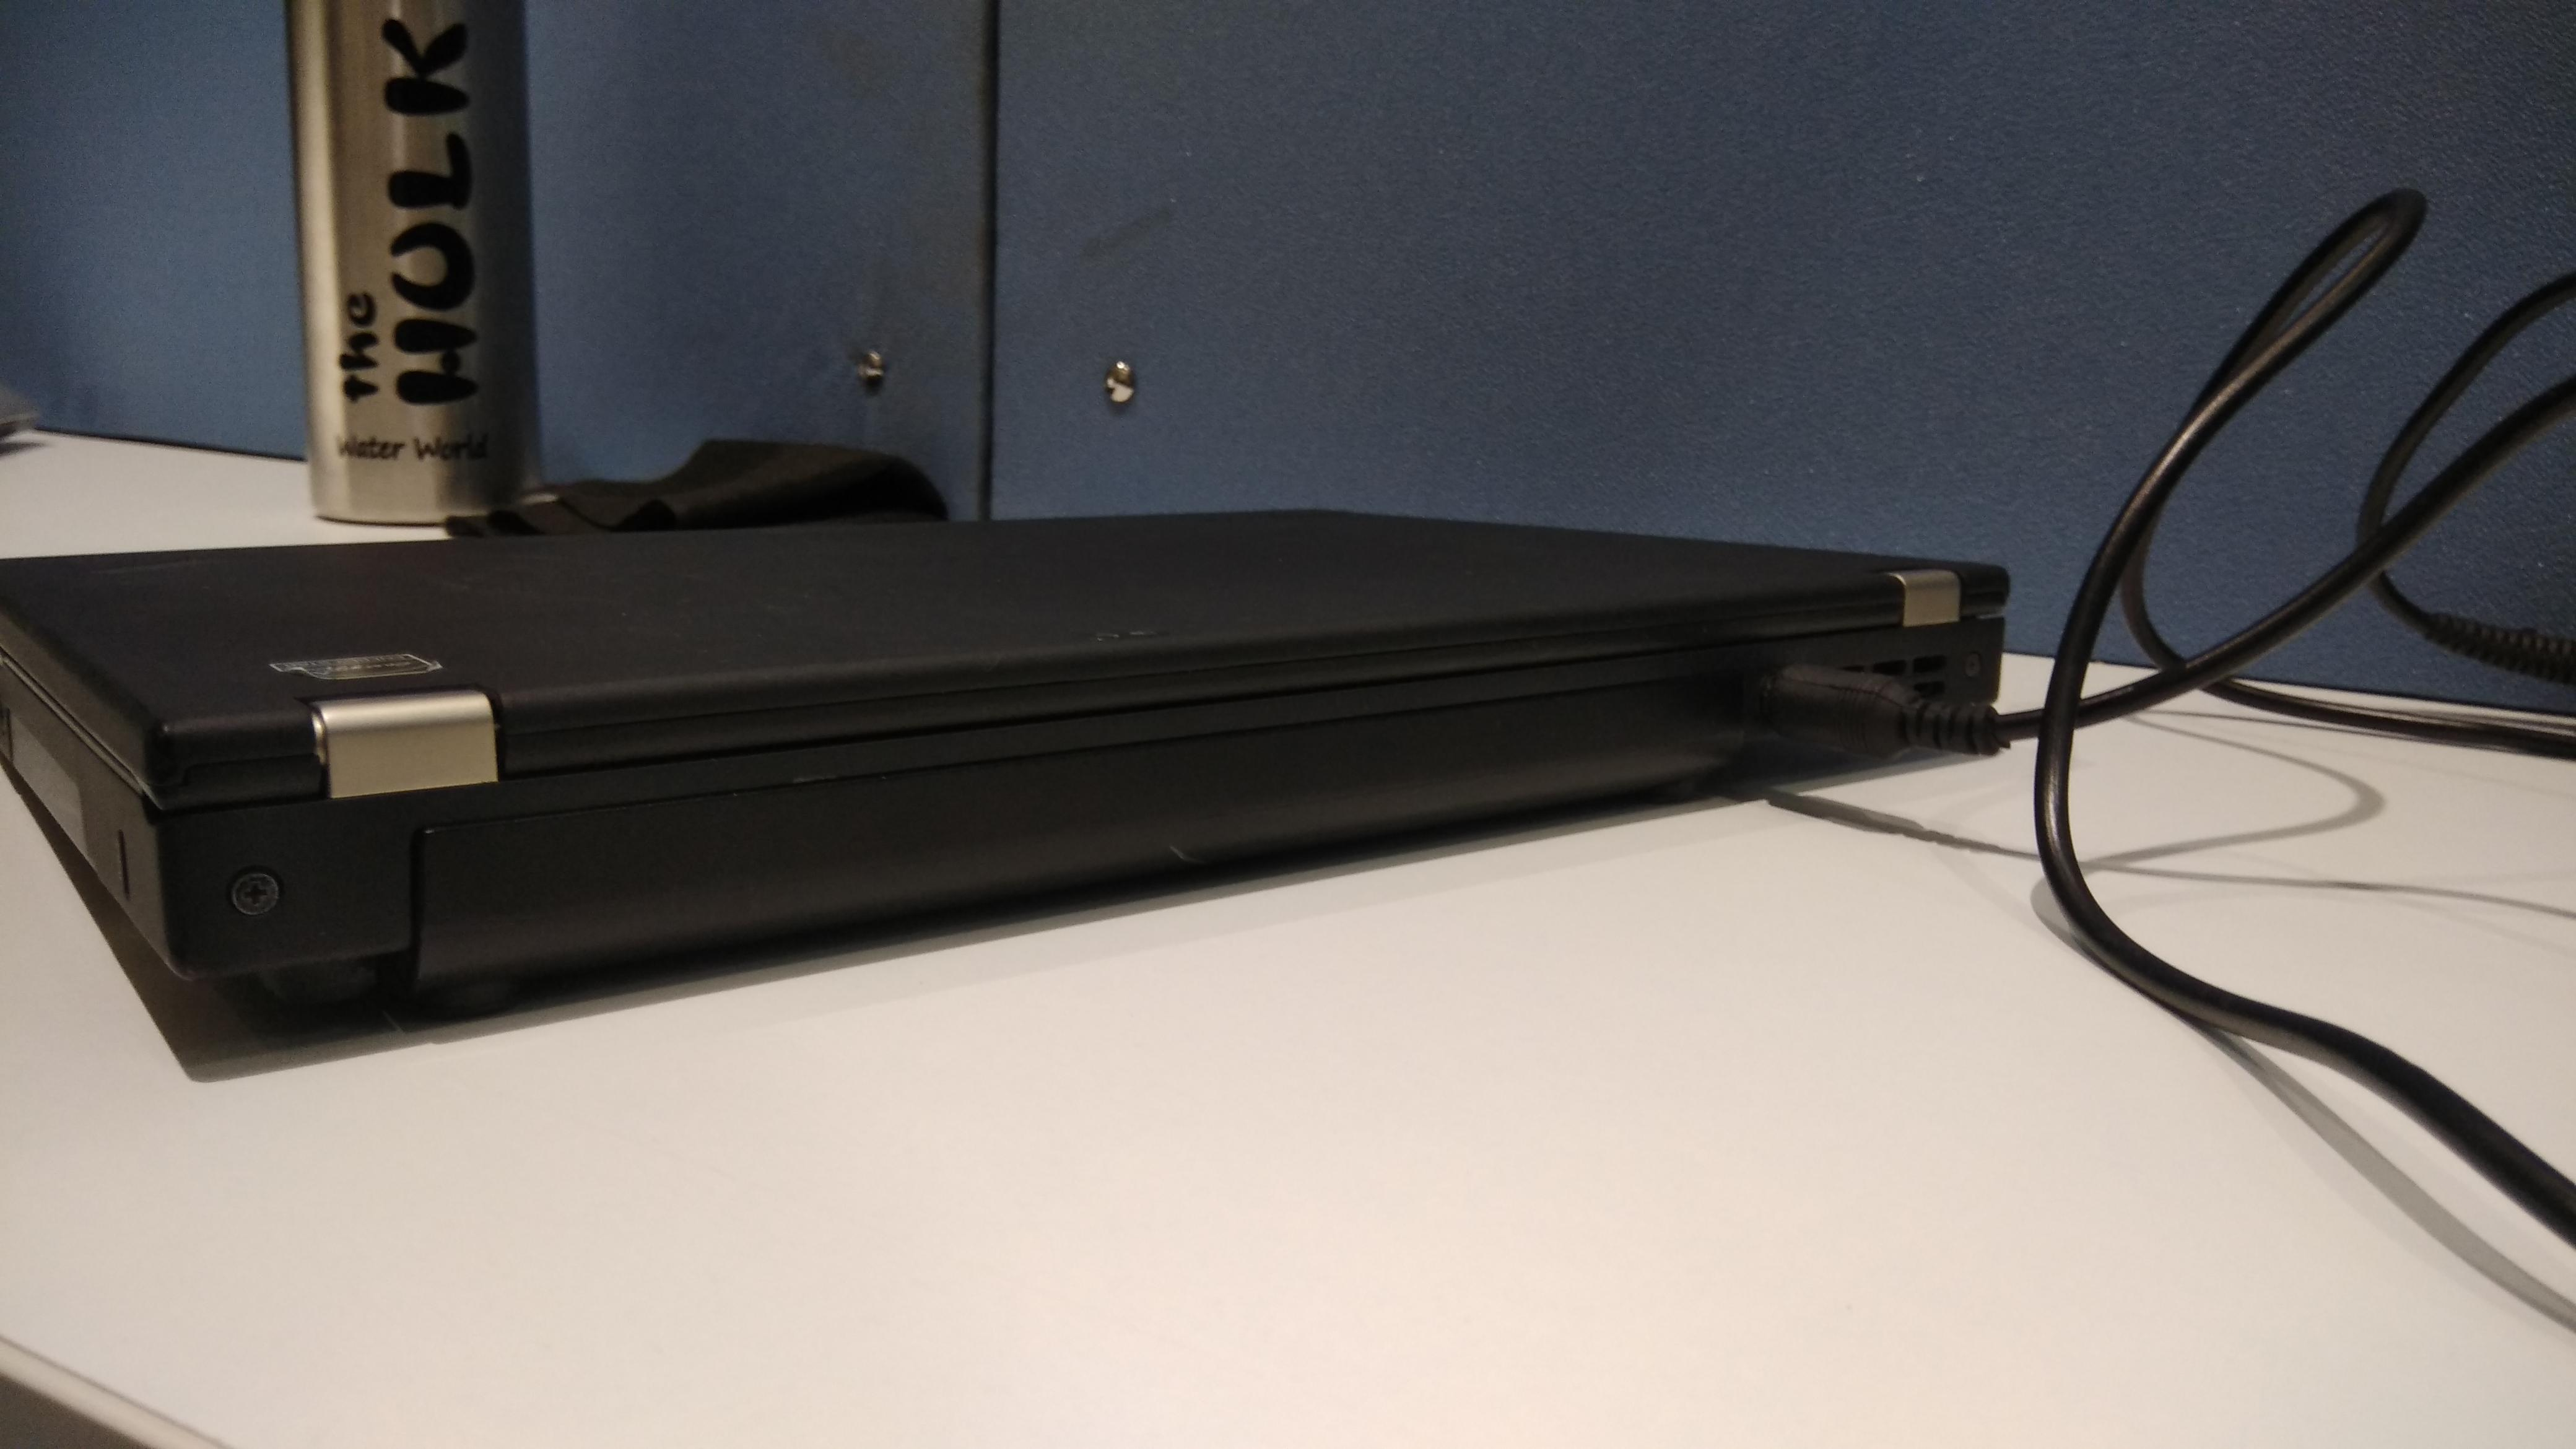laptop: (9, 488, 2038, 1085)
